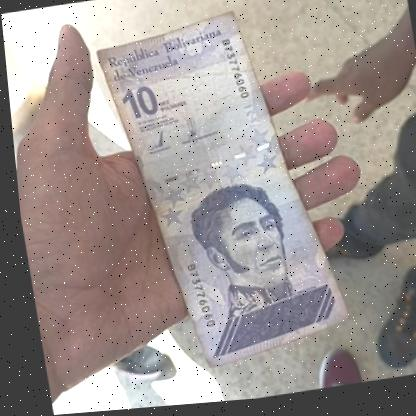ten-front-vef: (95, 13, 348, 377)
